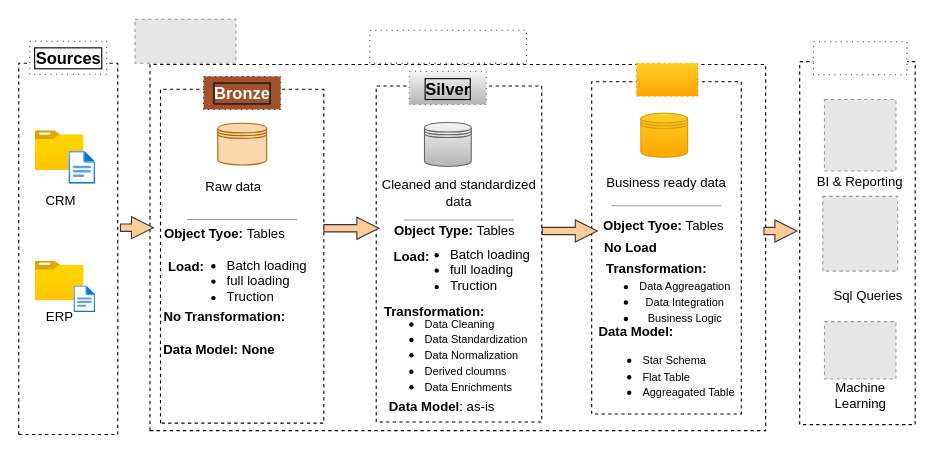
Some shapes in this 935 by 454 pixel diagram are drawn without their labels. Grey dashed boxes stand in for pictures. The box of each missing label's shape, as (x1, y1, x2, y2) in pixels:
Consumers: (812, 41, 907, 75)
Data WareHouse: (369, 29, 526, 63)
Gold: (635, 62, 698, 96)
